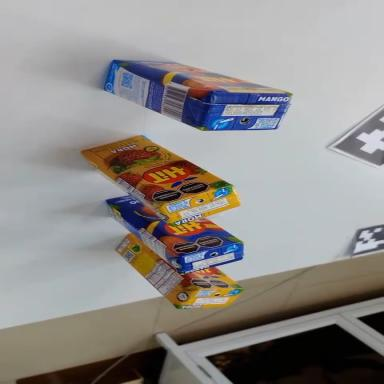HIT-MANGO: (99, 46, 293, 151), (93, 190, 250, 289)
HIT-MORA: (72, 115, 246, 249), (105, 231, 247, 328)
cara_F: (75, 113, 232, 232), (104, 164, 241, 280), (113, 44, 291, 113), (120, 233, 247, 304)
